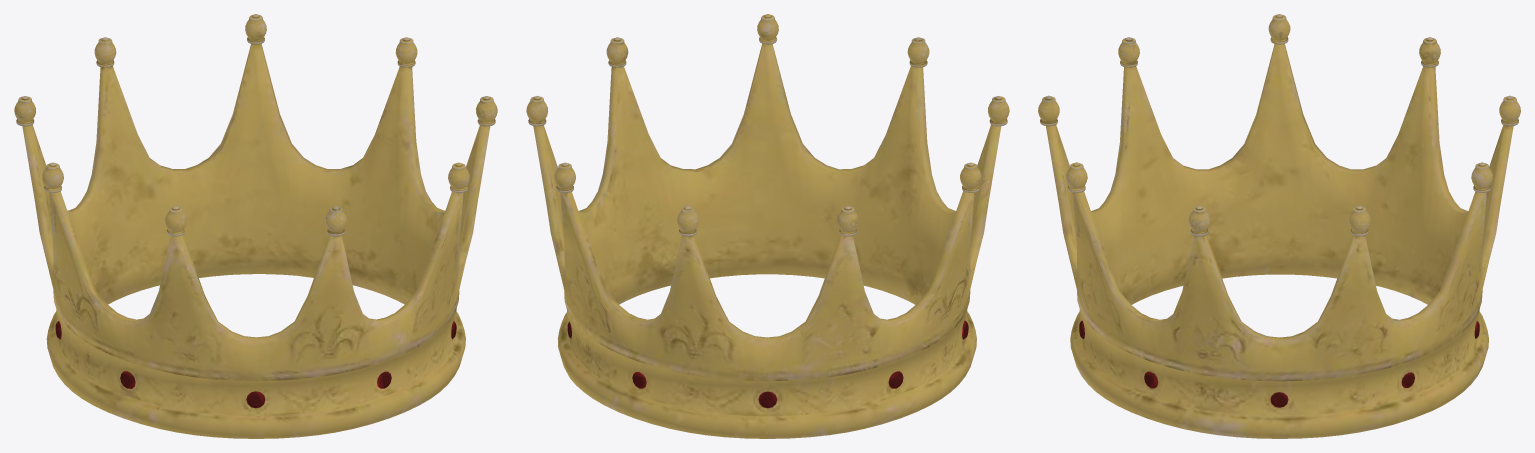
The model's file is crown-transformed.glb.
The picture shows the model from 3 angles, left to right: view 1: azimuth 30°, elevation 25°; view 2: azimuth 150°, elevation 25°; view 3: azimuth 270°, elevation 25°; orthographic projection.
Parts seen in each view (by area): view 1: Object_2; view 2: Object_2; view 3: Object_2.
Part boxes in pixels (bbox=[...]): Object_2: bbox=[14, 14, 497, 438]; Object_2: bbox=[526, 14, 1009, 438]; Object_2: bbox=[1038, 14, 1520, 438].
Size of the model in its own units: 4.98 by 2.78 by 5.06.
Materials: 1 (1 with a texture image).
